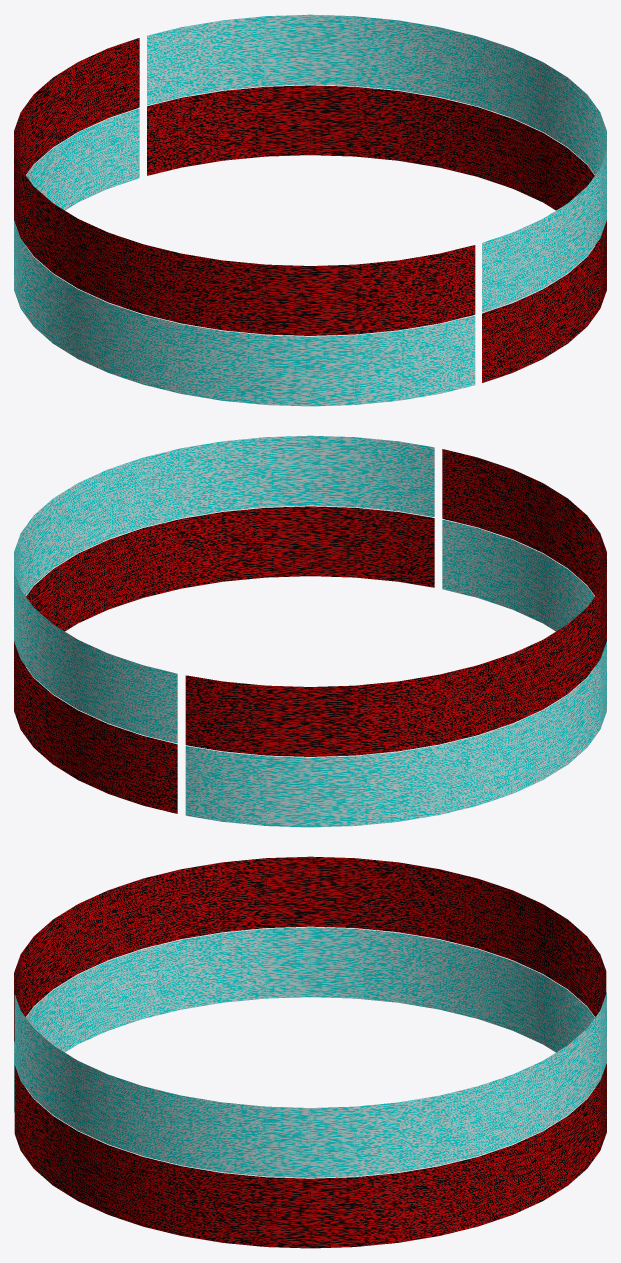
File: SM_Cylinder_02_HJS.fbx
3 renders of one model, top to bottom at view 1: azimuth 30°, elevation 25°; view 2: azimuth 150°, elevation 25°; view 3: azimuth 270°, elevation 25°, orthographic.
Parts seen in each view (by area): view 1: SM_Cylinder_02_HJS; view 2: SM_Cylinder_02_HJS; view 3: SM_Cylinder_02_HJS.
Part boxes in pixels (x1,y1,x2,y2): SM_Cylinder_02_HJS: (14,14,606,406); SM_Cylinder_02_HJS: (14,435,606,827); SM_Cylinder_02_HJS: (14,856,606,1248).
Bounding box in the file's own units: 265 × 69.48 × 264.
